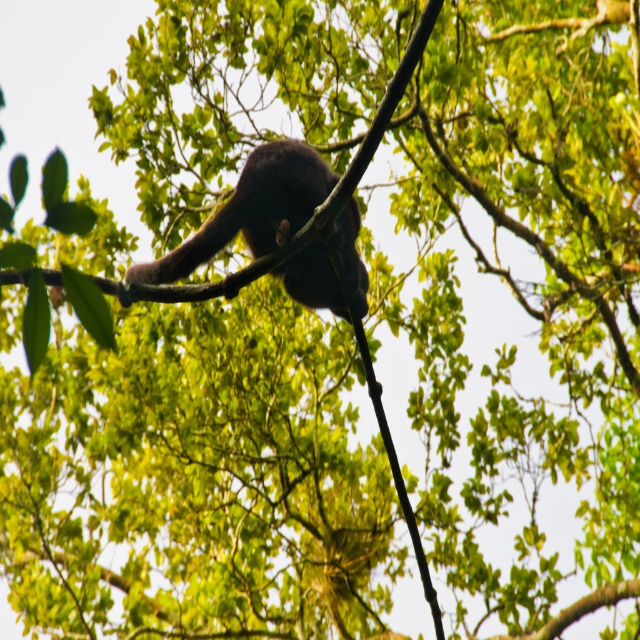Monkey: (112, 139, 374, 369)
